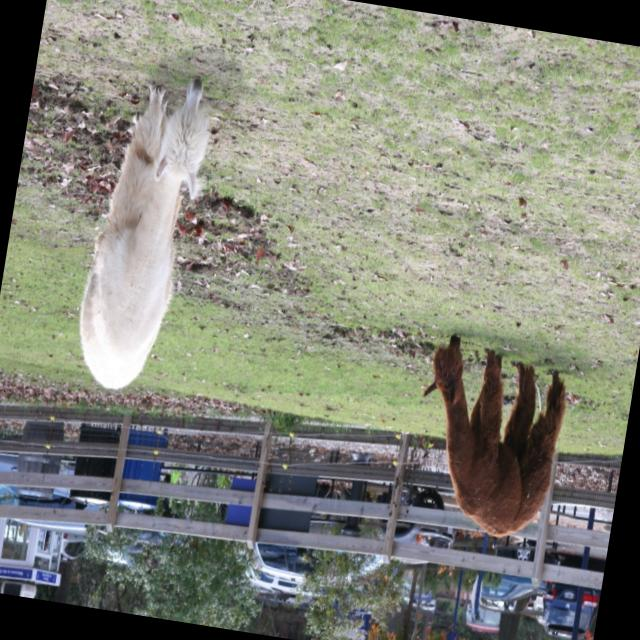alpaca: (70, 66, 220, 398), (402, 332, 573, 542)
